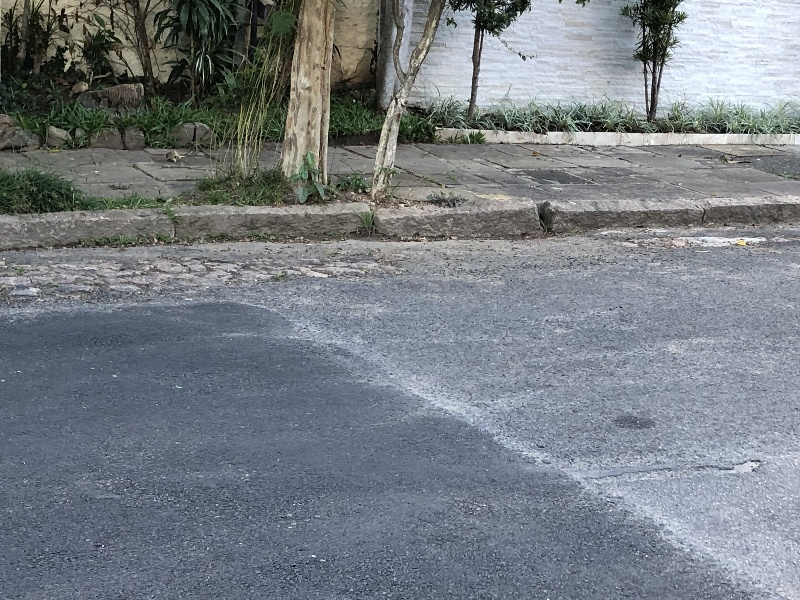v71: (8, 163, 793, 268)
